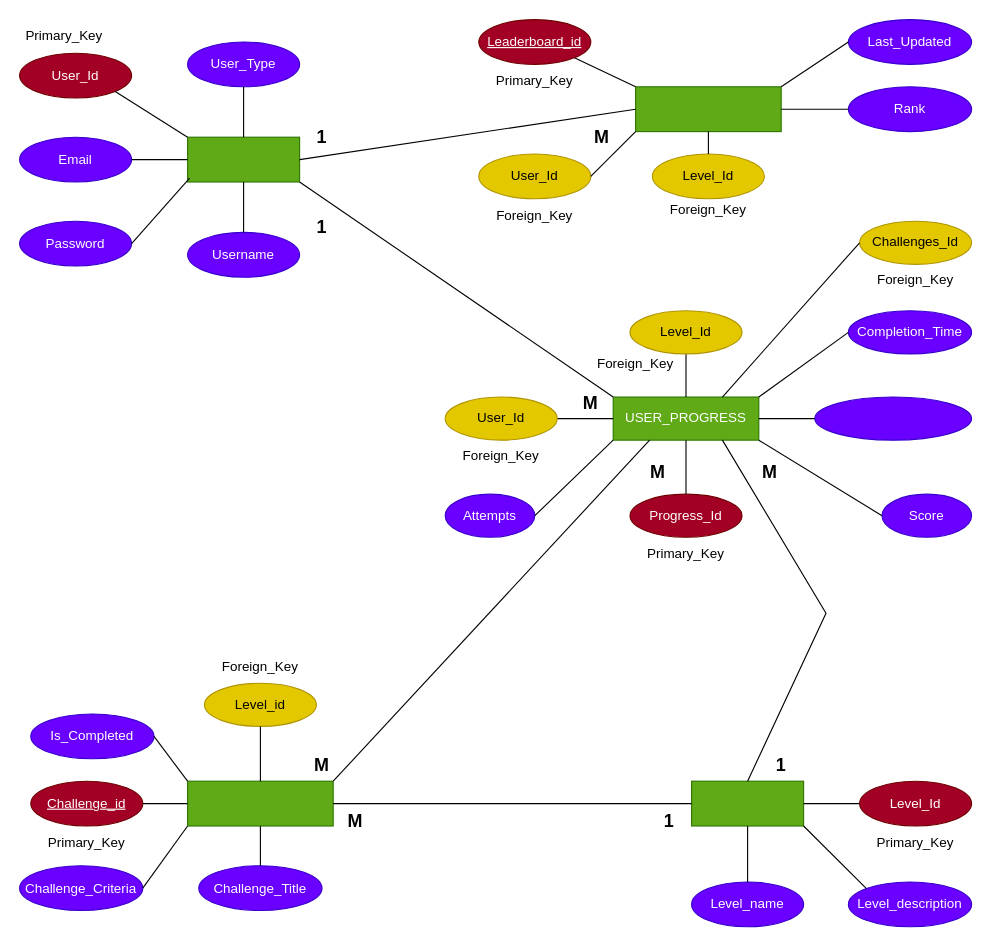
The diagram is 991 pixels wide and 946 high, and some of its shapes have lost their labels. The box of each missing label's shape, as (x1, y1, x2, y2) in pixels:
CHALLENGES: (186, 780, 333, 826)
Completed_Progress: (814, 396, 972, 440)
LEADERBOARD: (634, 86, 781, 132)
LEVELS: (690, 780, 804, 826)
USER: (186, 136, 300, 182)
